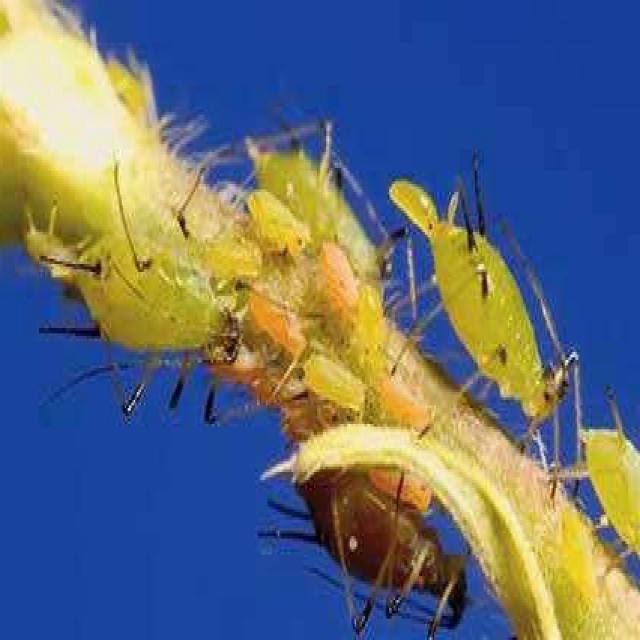Aphids: (272, 415, 468, 633), (422, 213, 578, 451), (74, 229, 242, 422), (250, 134, 400, 268), (582, 411, 640, 569)
